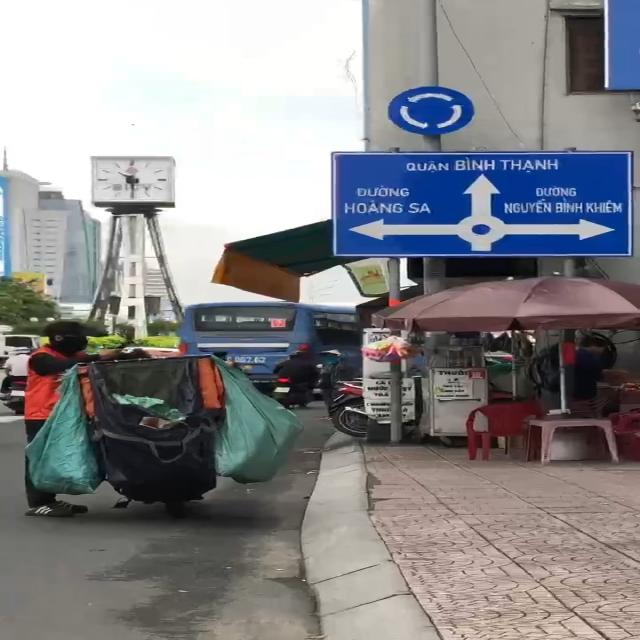Bien bao noi giao nhau chay theo vong xuyen: (385, 84, 482, 136)
